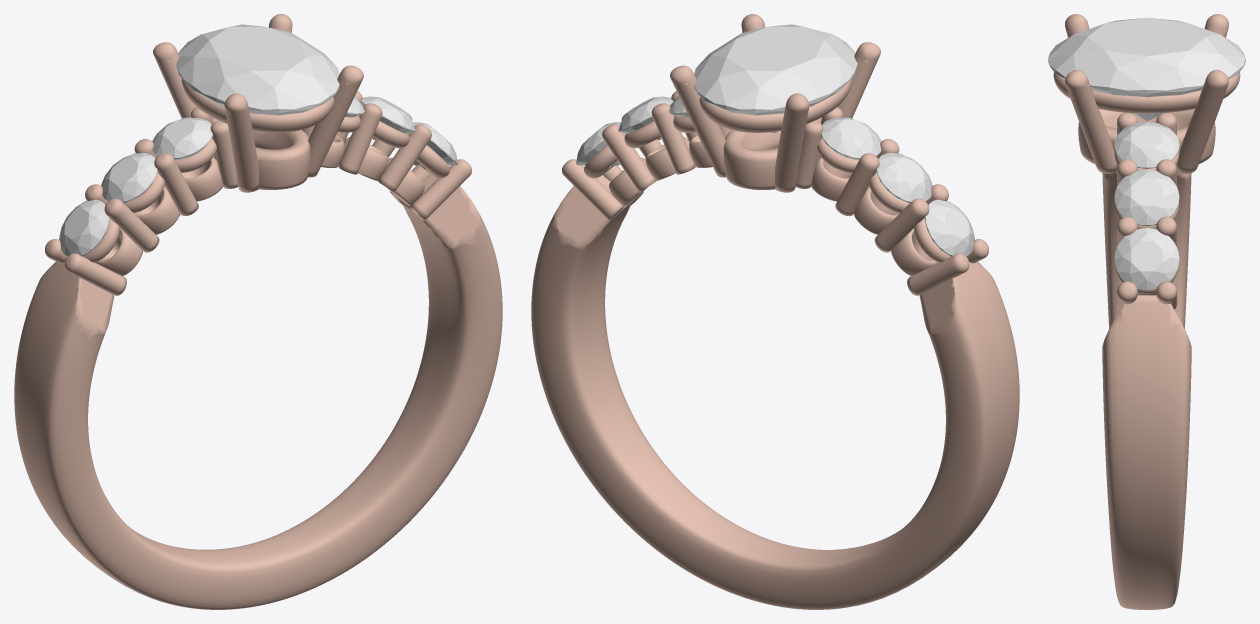
File: diamond-oval-rosegold-4prong-straighttaperedband-7stone.glb
3 views of the same model, side by side, from view 1: azimuth 30°, elevation 25°; view 2: azimuth 150°, elevation 25°; view 3: azimuth 270°, elevation 25° (orthographic).
Visible parts, largest first — view 1: metal, stone, side, side.001, side.002, side.004, side.003; view 2: metal, stone, side, side.001, side.002, side.004, side.003; view 3: metal, stone, side.003, side.004, side.005.
Part boxes in pixels (x1=…): metal: x1=14, y1=14, x2=502, y2=609; stone: x1=176, y1=24, x2=339, y2=132; side: x1=59, y1=199, x2=109, y2=256; side.001: x1=101, y1=153, x2=157, y2=202; side.002: x1=152, y1=117, x2=212, y2=159; side.004: x1=360, y1=96, x2=415, y2=139; side.003: x1=413, y1=122, x2=457, y2=165; metal: x1=531, y1=14, x2=1019, y2=609; stone: x1=694, y1=24, x2=857, y2=132; side: x1=924, y1=199, x2=974, y2=256; side.001: x1=876, y1=153, x2=932, y2=202; side.002: x1=821, y1=117, x2=881, y2=159; side.004: x1=618, y1=96, x2=673, y2=139; side.003: x1=576, y1=122, x2=620, y2=165; metal: x1=1053, y1=14, x2=1240, y2=609; stone: x1=1048, y1=17, x2=1245, y2=120; side.003: x1=1114, y1=228, x2=1179, y2=290; side.004: x1=1114, y1=169, x2=1179, y2=225; side.005: x1=1114, y1=121, x2=1179, y2=168.
Size of the model in its own units: 20.5 by 23.41 by 7.64.
